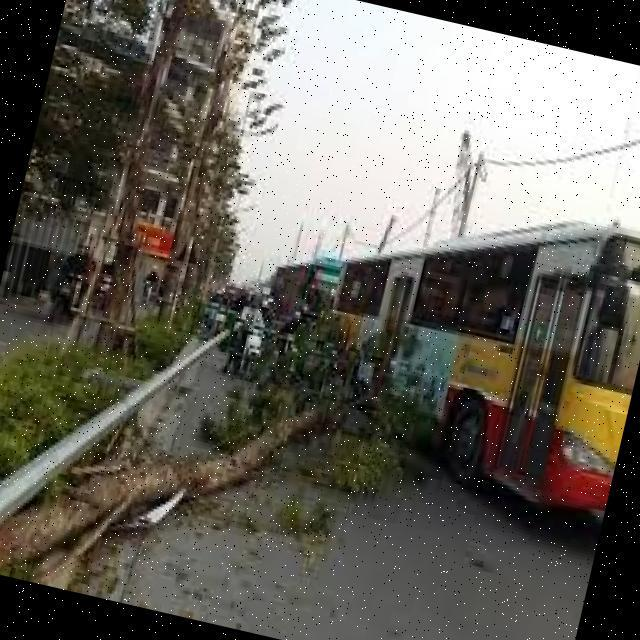fallen_object: (0, 241, 425, 640)
